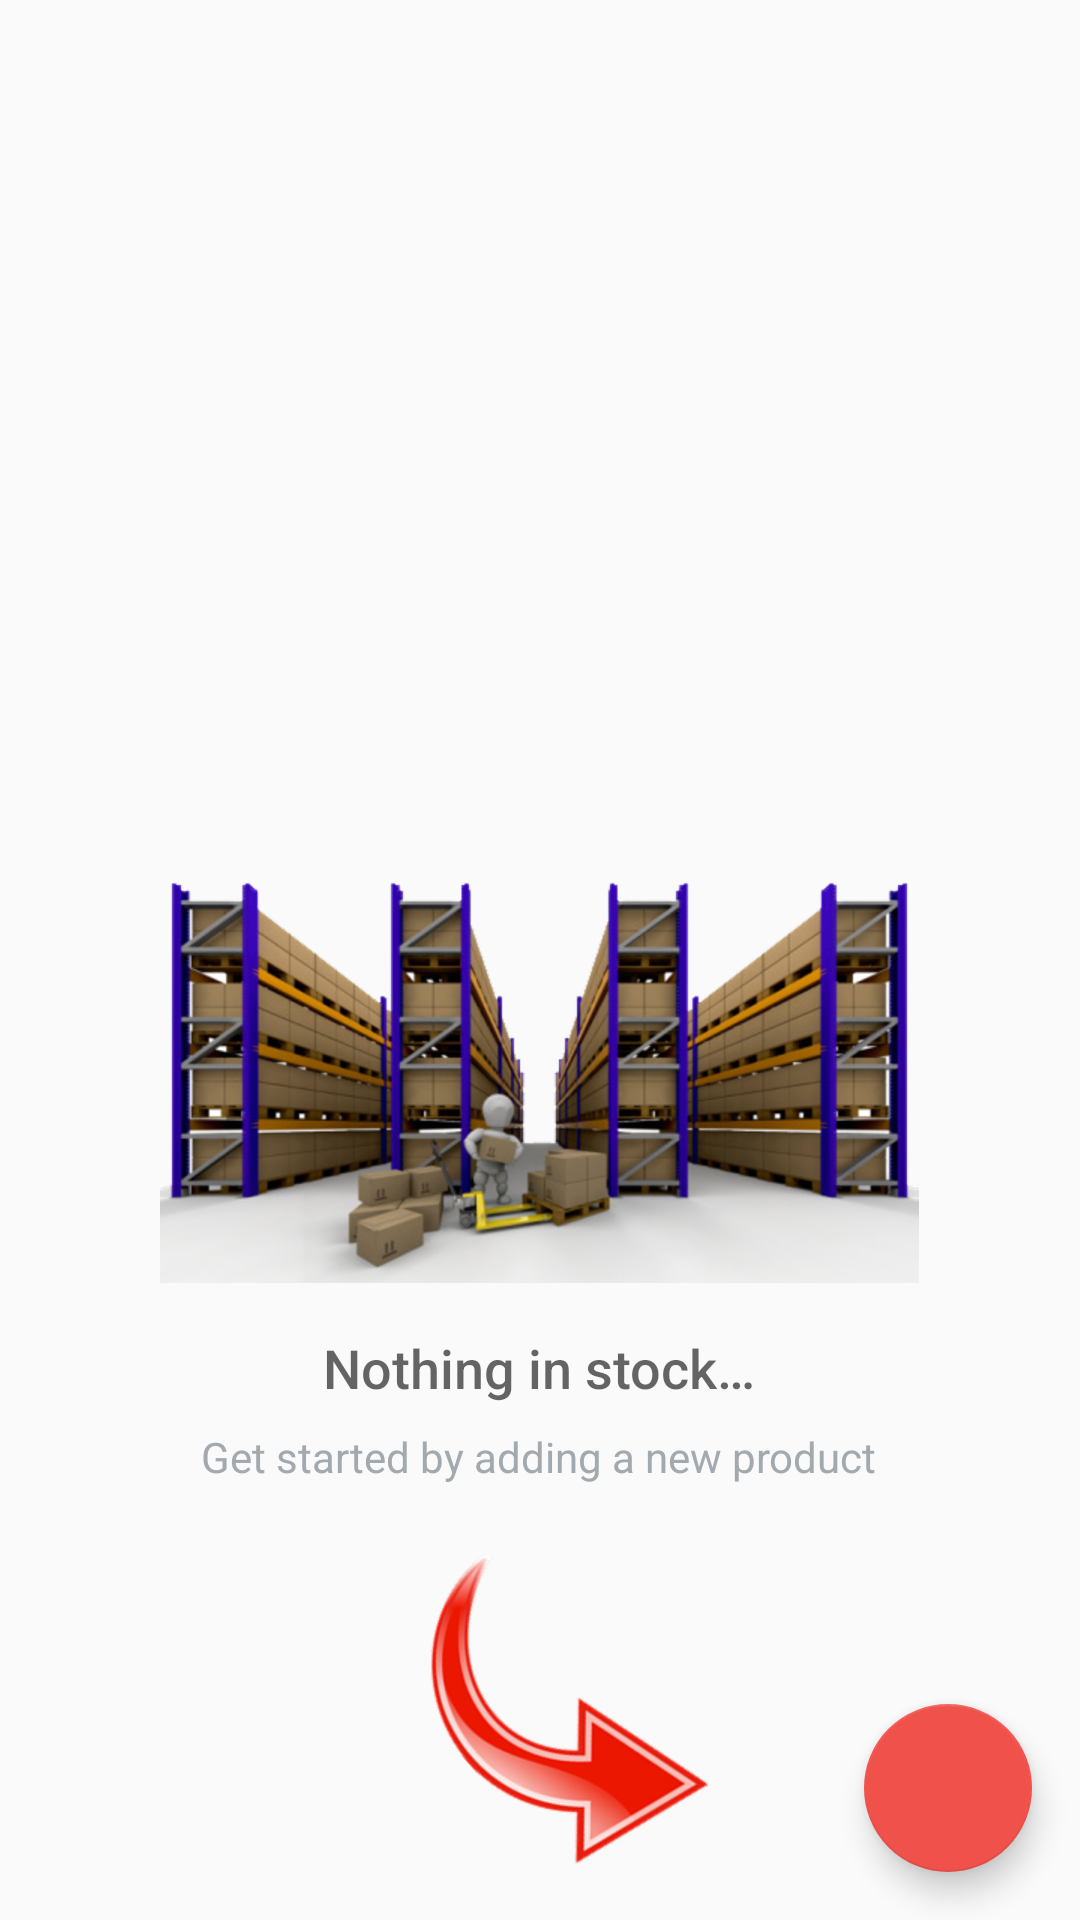

Screen size 1080*1920. Icon name, then its center in pixels as (x,y):
curved arrow: (569,1711)
